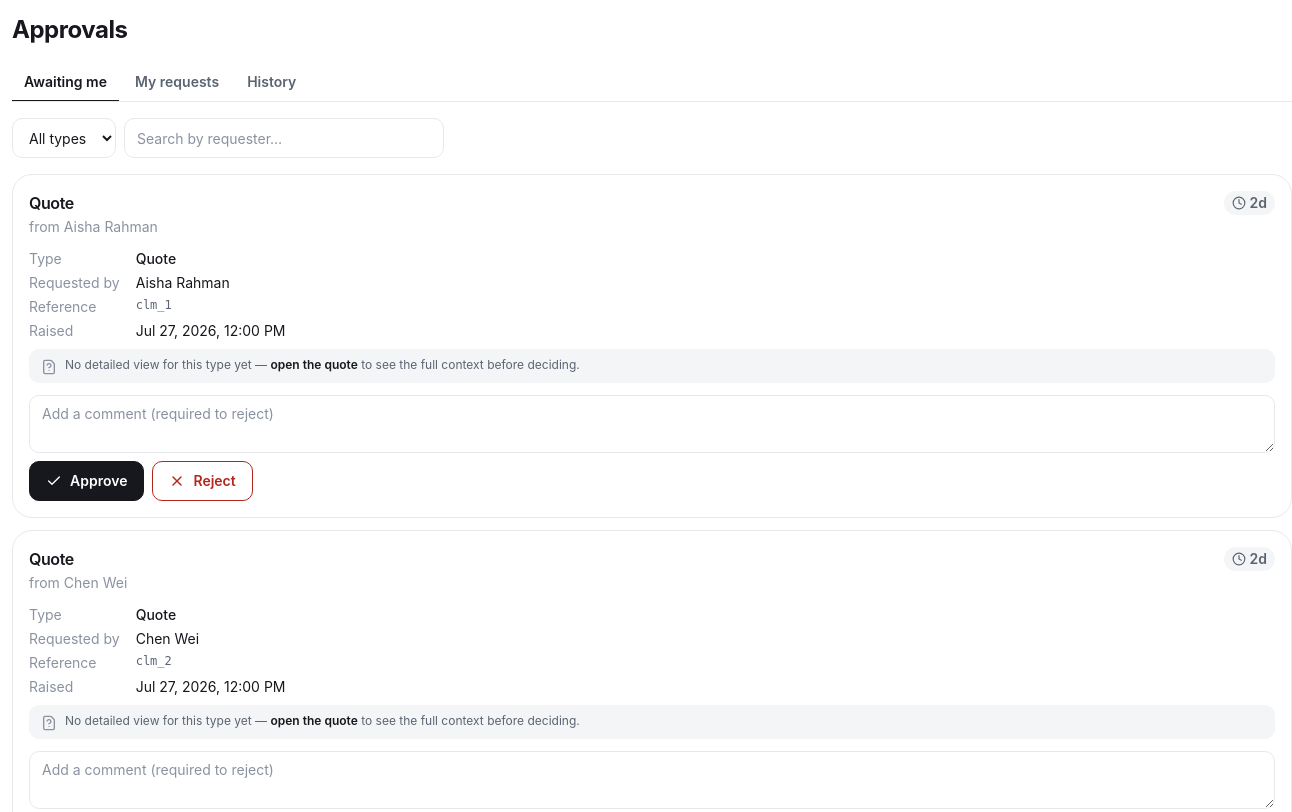
Test: filters › searches by requester name
Check: the text "clm_1" is shown, box [136,298,172,312]
Type "chen" into the search field named "Search by requester name" at (284, 138), box [124,118,444,158]
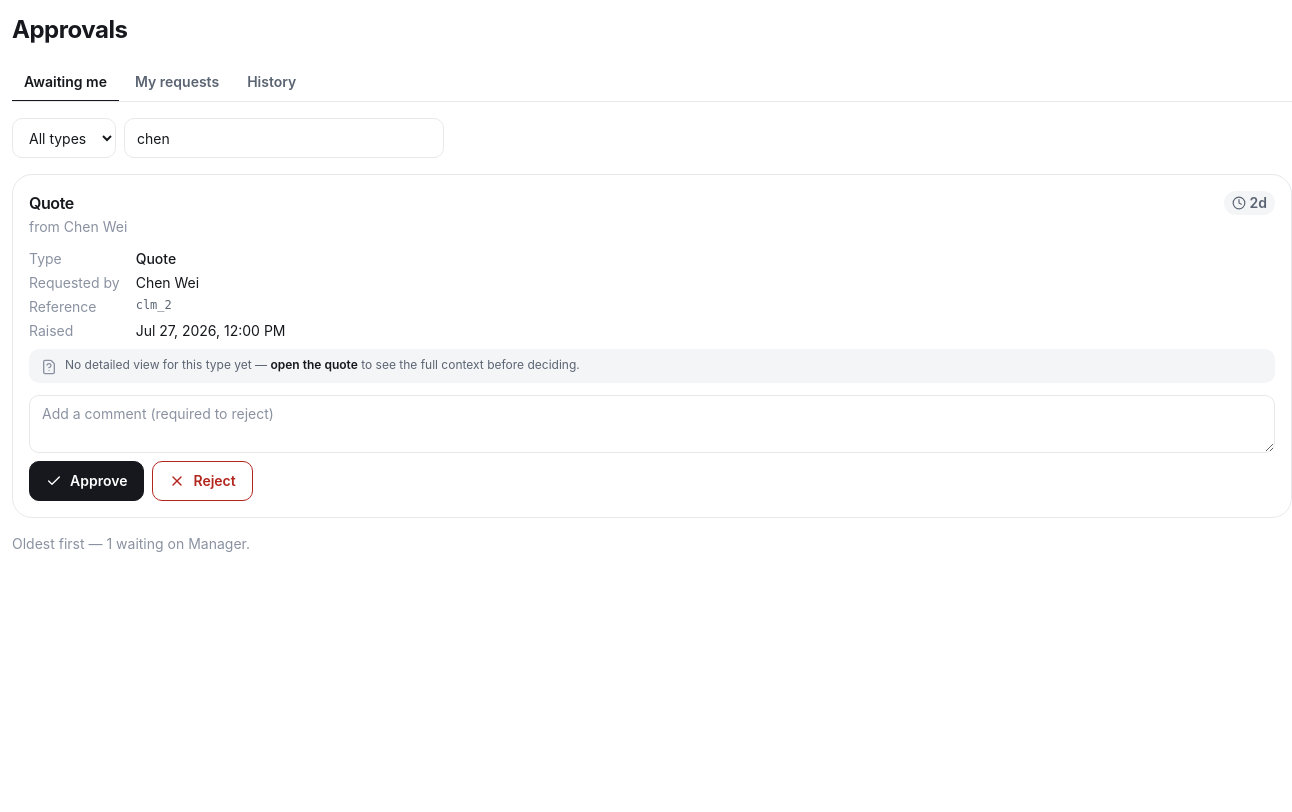
Check: the text "clm_2" is shown, box [136,298,172,312]
Check: the text "clm_1" is gone
